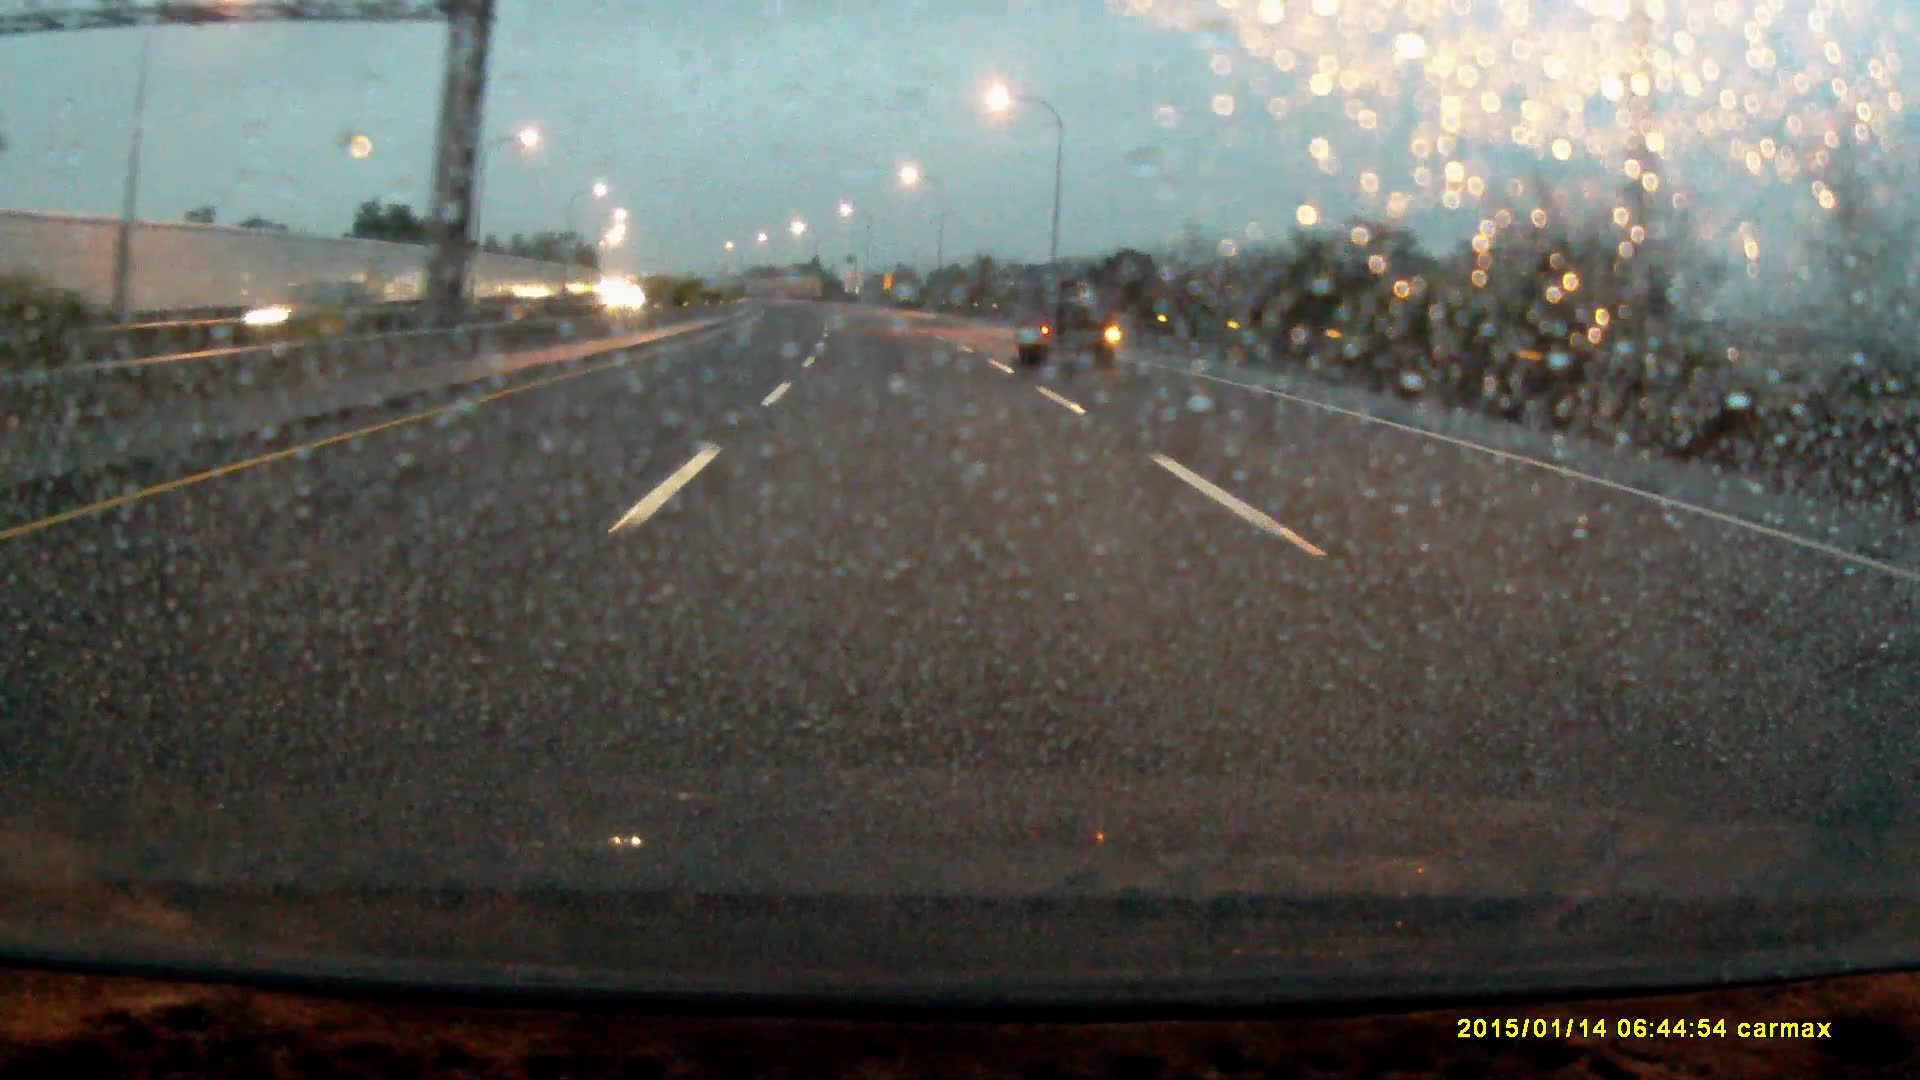vehicle: (133, 280, 311, 361), (1014, 274, 1116, 375), (583, 281, 651, 316)
